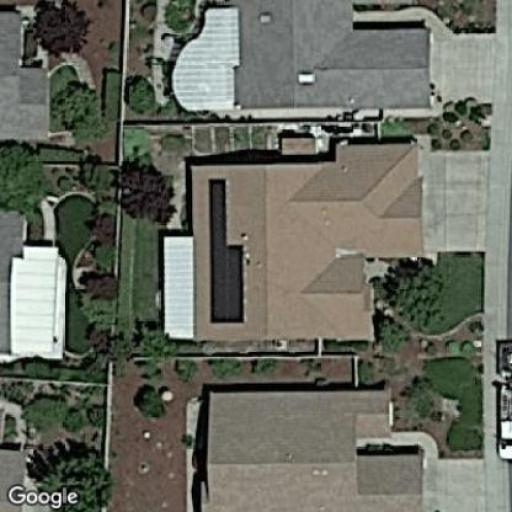solar-panel: (204, 176, 250, 326)
